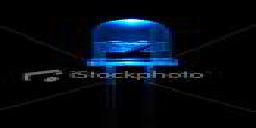LED: (82, 17, 182, 72)
